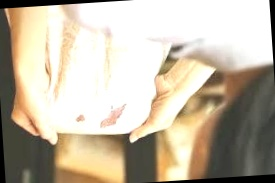blood: (99, 107, 128, 128), (76, 113, 87, 123)
